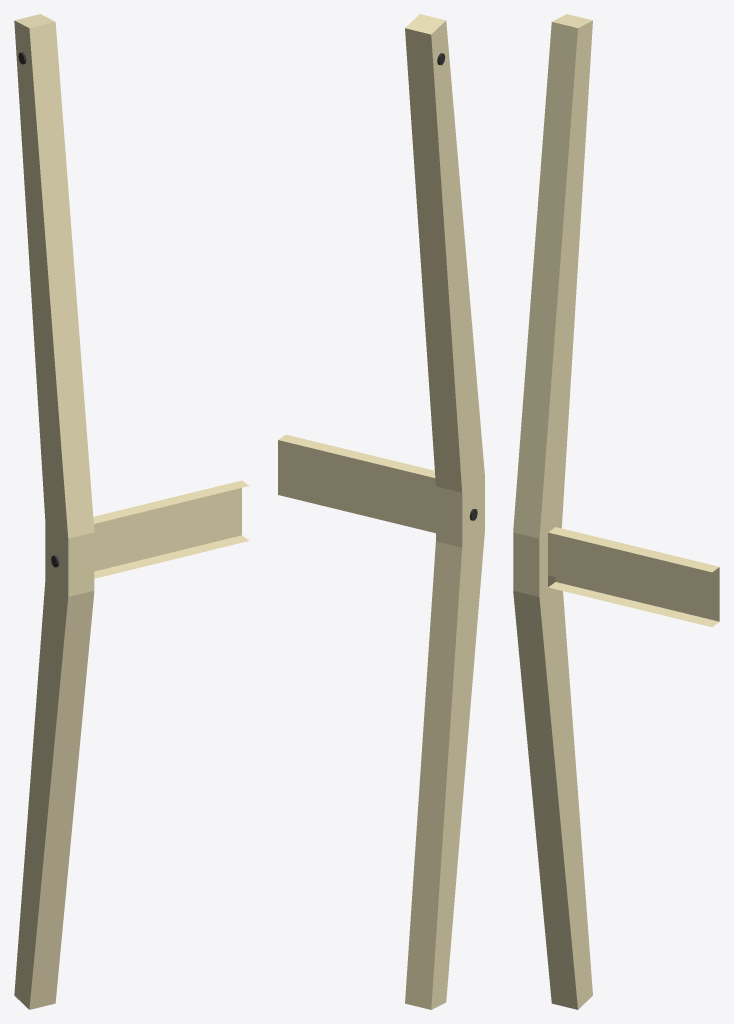
The model's file is leg3.obj.
3 views of the same model, side by side, from view 1: azimuth 30°, elevation 25°; view 2: azimuth 150°, elevation 25°; view 3: azimuth 330°, elevation 25° (orthographic).
Parts seen in each view (by area): view 1: leg3; view 2: leg3; view 3: leg3.
Part boxes in pixels (x1=…): leg3: x1=14, y1=14, x2=249, y2=1009; leg3: x1=278, y1=14, x2=484, y2=1009; leg3: x1=513, y1=14, x2=719, y2=1009.
Size of the model in its own units: 7.33 by 35.74 by 3.55.
